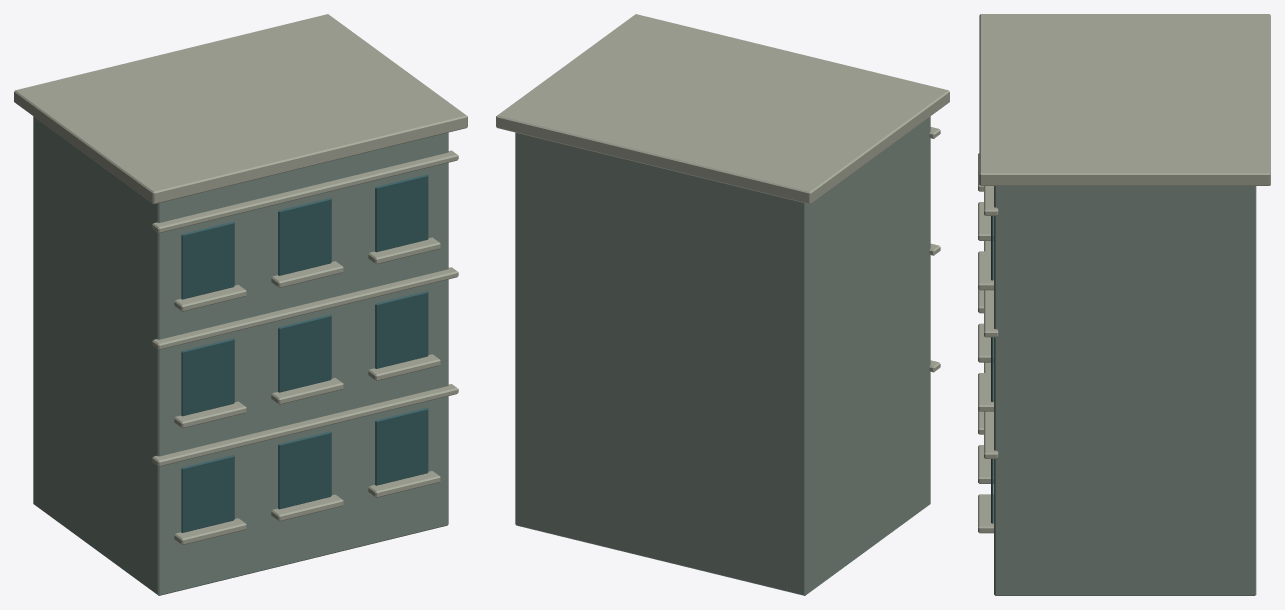
The model's file is apartment_block.glb.
3 views of the same model, side by side, from view 1: azimuth 30°, elevation 25°; view 2: azimuth 150°, elevation 25°; view 3: azimuth 270°, elevation 25° (orthographic). The views are drawn at different scales.
Visible parts, largest first — view 1: apartment_block.001; view 2: apartment_block.001; view 3: apartment_block.001.
Boxes of the visible parts, x1,y1,x2,y2 form: apartment_block.001: (14, 14, 467, 595); apartment_block.001: (496, 14, 949, 595); apartment_block.001: (978, 14, 1270, 595).
Size of the model in its own units: 6.5 by 8.12 by 5.02.
